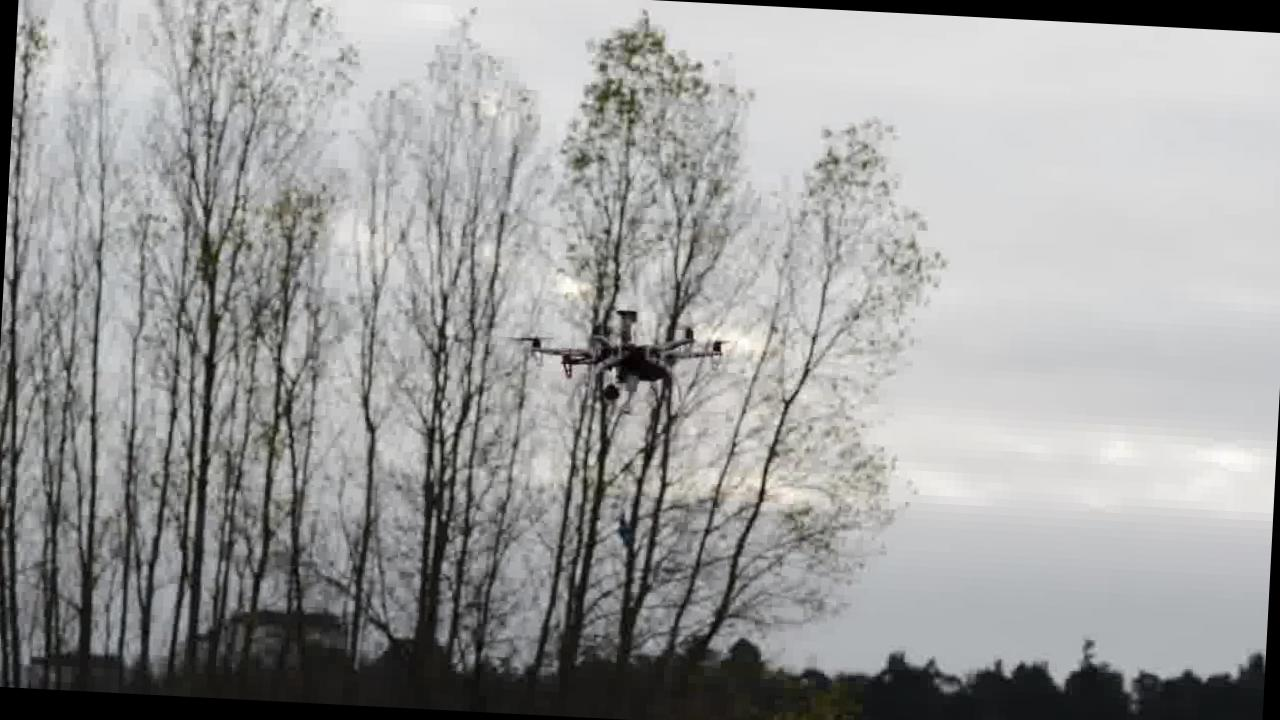drone: (513, 300, 728, 404)
